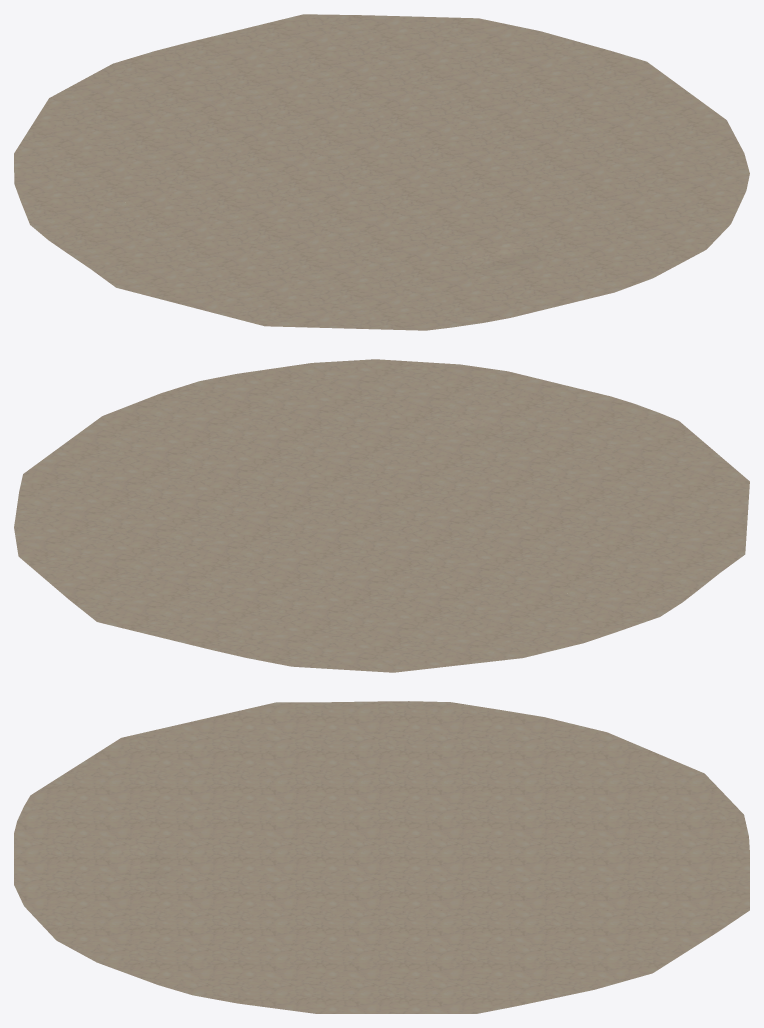
The model's file is SM_ENV_TCHEXA_ArenaGround_Aa.fbx.
3 renders of one model, top to bottom at view 1: azimuth 30°, elevation 25°; view 2: azimuth 150°, elevation 25°; view 3: azimuth 270°, elevation 25°, orthographic. The views are drawn at different scales.
Parts seen in each view (by area): view 1: SM_ENV_TCHEXA_ArenaGround_Aa.mo; view 2: SM_ENV_TCHEXA_ArenaGround_Aa.mo; view 3: SM_ENV_TCHEXA_ArenaGround_Aa.mo.
Boxes of the visible parts, x1,y1,x2,y2 form: SM_ENV_TCHEXA_ArenaGround_Aa.mo: [14, 14, 749, 330]; SM_ENV_TCHEXA_ArenaGround_Aa.mo: [14, 359, 749, 672]; SM_ENV_TCHEXA_ArenaGround_Aa.mo: [14, 701, 749, 1013].
Bounding box in the file's own units: 17627 × 21.14 × 17535.
